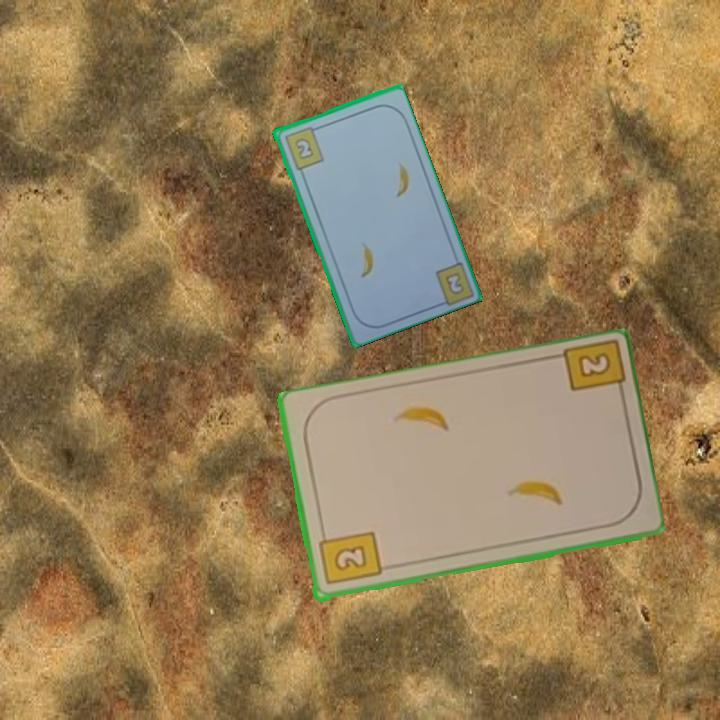2b: (557, 339, 627, 404), (315, 527, 383, 588), (280, 123, 326, 172), (441, 269, 467, 297)
